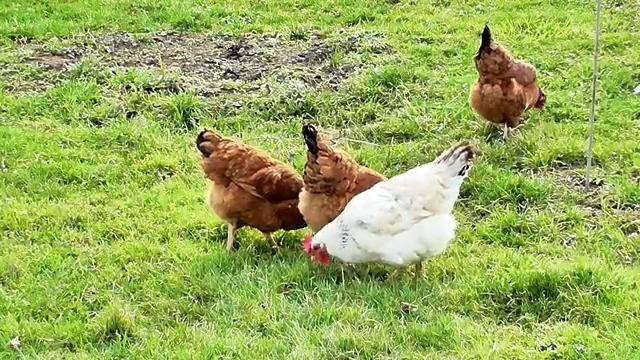Normal: (302, 119, 477, 277), (195, 128, 309, 252), (471, 28, 554, 142)
